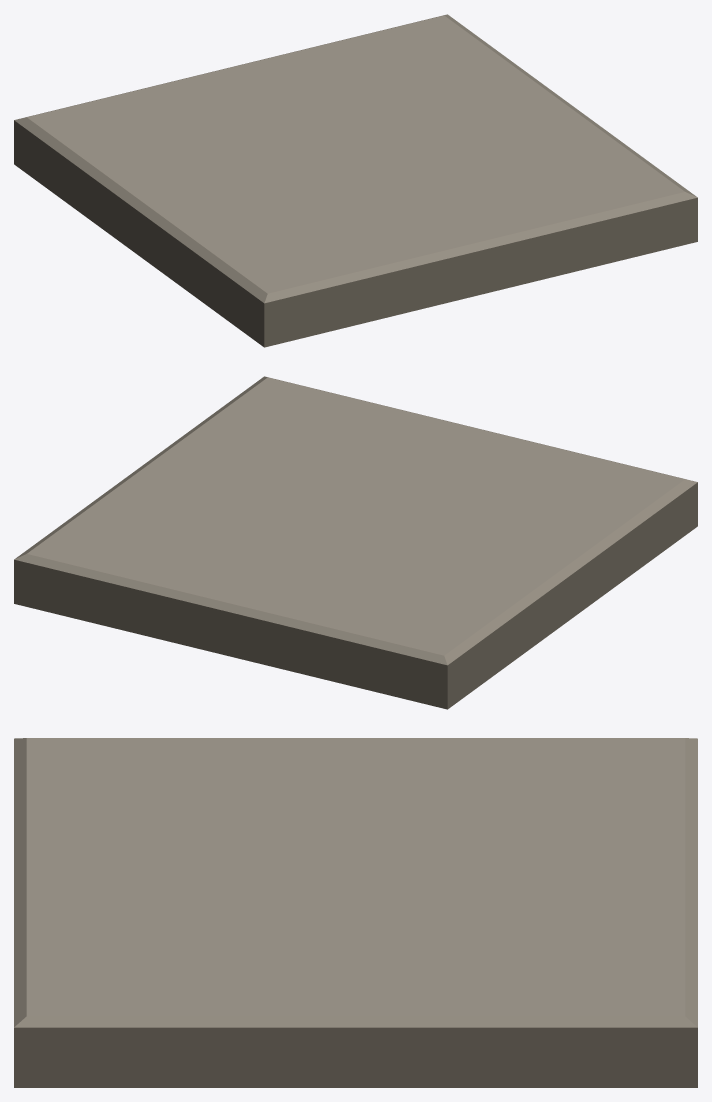
The model's file is Bottom_A1.fbx.
3 views of the same model, one above another, from view 1: azimuth 30°, elevation 25°; view 2: azimuth 150°, elevation 25°; view 3: azimuth 270°, elevation 25° (orthographic). The views are drawn at different scales.
Parts seen in each view (by area): view 1: Bottom_A1; view 2: Bottom_A1; view 3: Bottom_A1.
Part boxes in pixels (left/top/right/bottom): Bottom_A1: left=14, top=14, right=697, bottom=347; Bottom_A1: left=14, top=376, right=697, bottom=709; Bottom_A1: left=14, top=738, right=697, bottom=1087.
Size of the model in its own units: 623 by 66.63 by 623.
